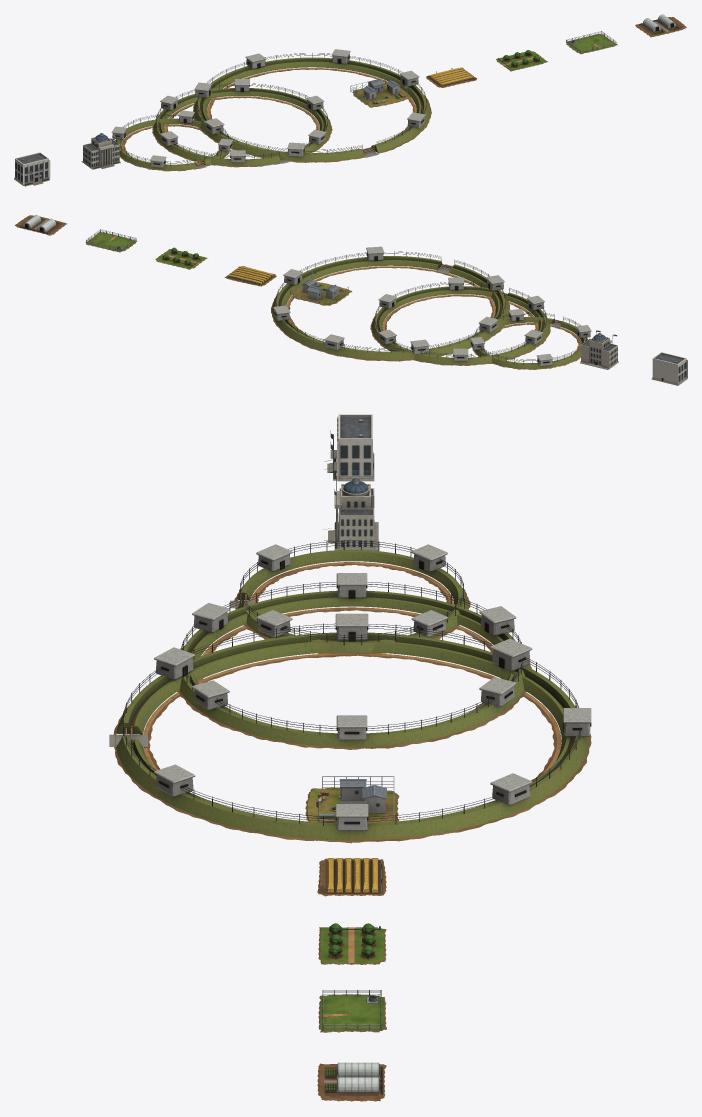
Rendered from shared-modern.glb.
The picture shows the model from 3 angles, top to bottom: view 1: azimuth 30°, elevation 25°; view 2: azimuth 150°, elevation 25°; view 3: azimuth 270°, elevation 25°; orthographic projection. The views are drawn at different scales.
Parts seen in each view (by area): view 1: LOD0.004, LOD0.003, LOD0.002, LOD0.005, LOD0.001, LOD0, LOD0.008, LOD0.009, LOD0.007, LOD0.006; view 2: LOD0.004, LOD0.003, LOD0.002, LOD0.001, LOD0.005, LOD0, LOD0.008, LOD0.007, LOD0.009, LOD0.006; view 3: LOD0.004, LOD0.003, LOD0.002, LOD0.005, LOD0.001, LOD0, LOD0.008, LOD0.007, LOD0.009, LOD0.006.
Part boxes in pixels (x1,y1,x2,y2): LOD0.004: (193, 49, 431, 162); LOD0.003: (152, 79, 332, 167); LOD0.002: (111, 110, 232, 171); LOD0.005: (350, 76, 410, 107); LOD0.001: (81, 133, 120, 169); LOD0: (14, 152, 50, 186); LOD0.008: (566, 31, 617, 54); LOD0.009: (635, 14, 686, 37); LOD0.007: (496, 50, 547, 71); LOD0.006: (426, 67, 477, 87); LOD0.004: (271, 246, 510, 361); LOD0.003: (370, 277, 550, 365); LOD0.002: (470, 309, 591, 369); LOD0.001: (580, 330, 618, 369); LOD0.005: (290, 271, 352, 305); LOD0: (651, 352, 687, 385); LOD0.008: (85, 229, 137, 252); LOD0.007: (155, 247, 207, 269); LOD0.009: (15, 215, 67, 235); LOD0.006: (224, 266, 276, 286); LOD0.004: (109, 613, 591, 843); LOD0.003: (177, 573, 531, 749); LOD0.002: (230, 540, 470, 655); LOD0.005: (305, 776, 399, 823); LOD0.001: (323, 473, 378, 550); LOD0: (324, 414, 374, 481); LOD0.008: (318, 990, 386, 1032); LOD0.007: (318, 923, 386, 964); LOD0.009: (317, 1062, 386, 1101); LOD0.006: (317, 858, 386, 896).
Size of what is drawn, in the model's own units: 28.46 by 1.23 by 9.
3 materials, 3 textured.
